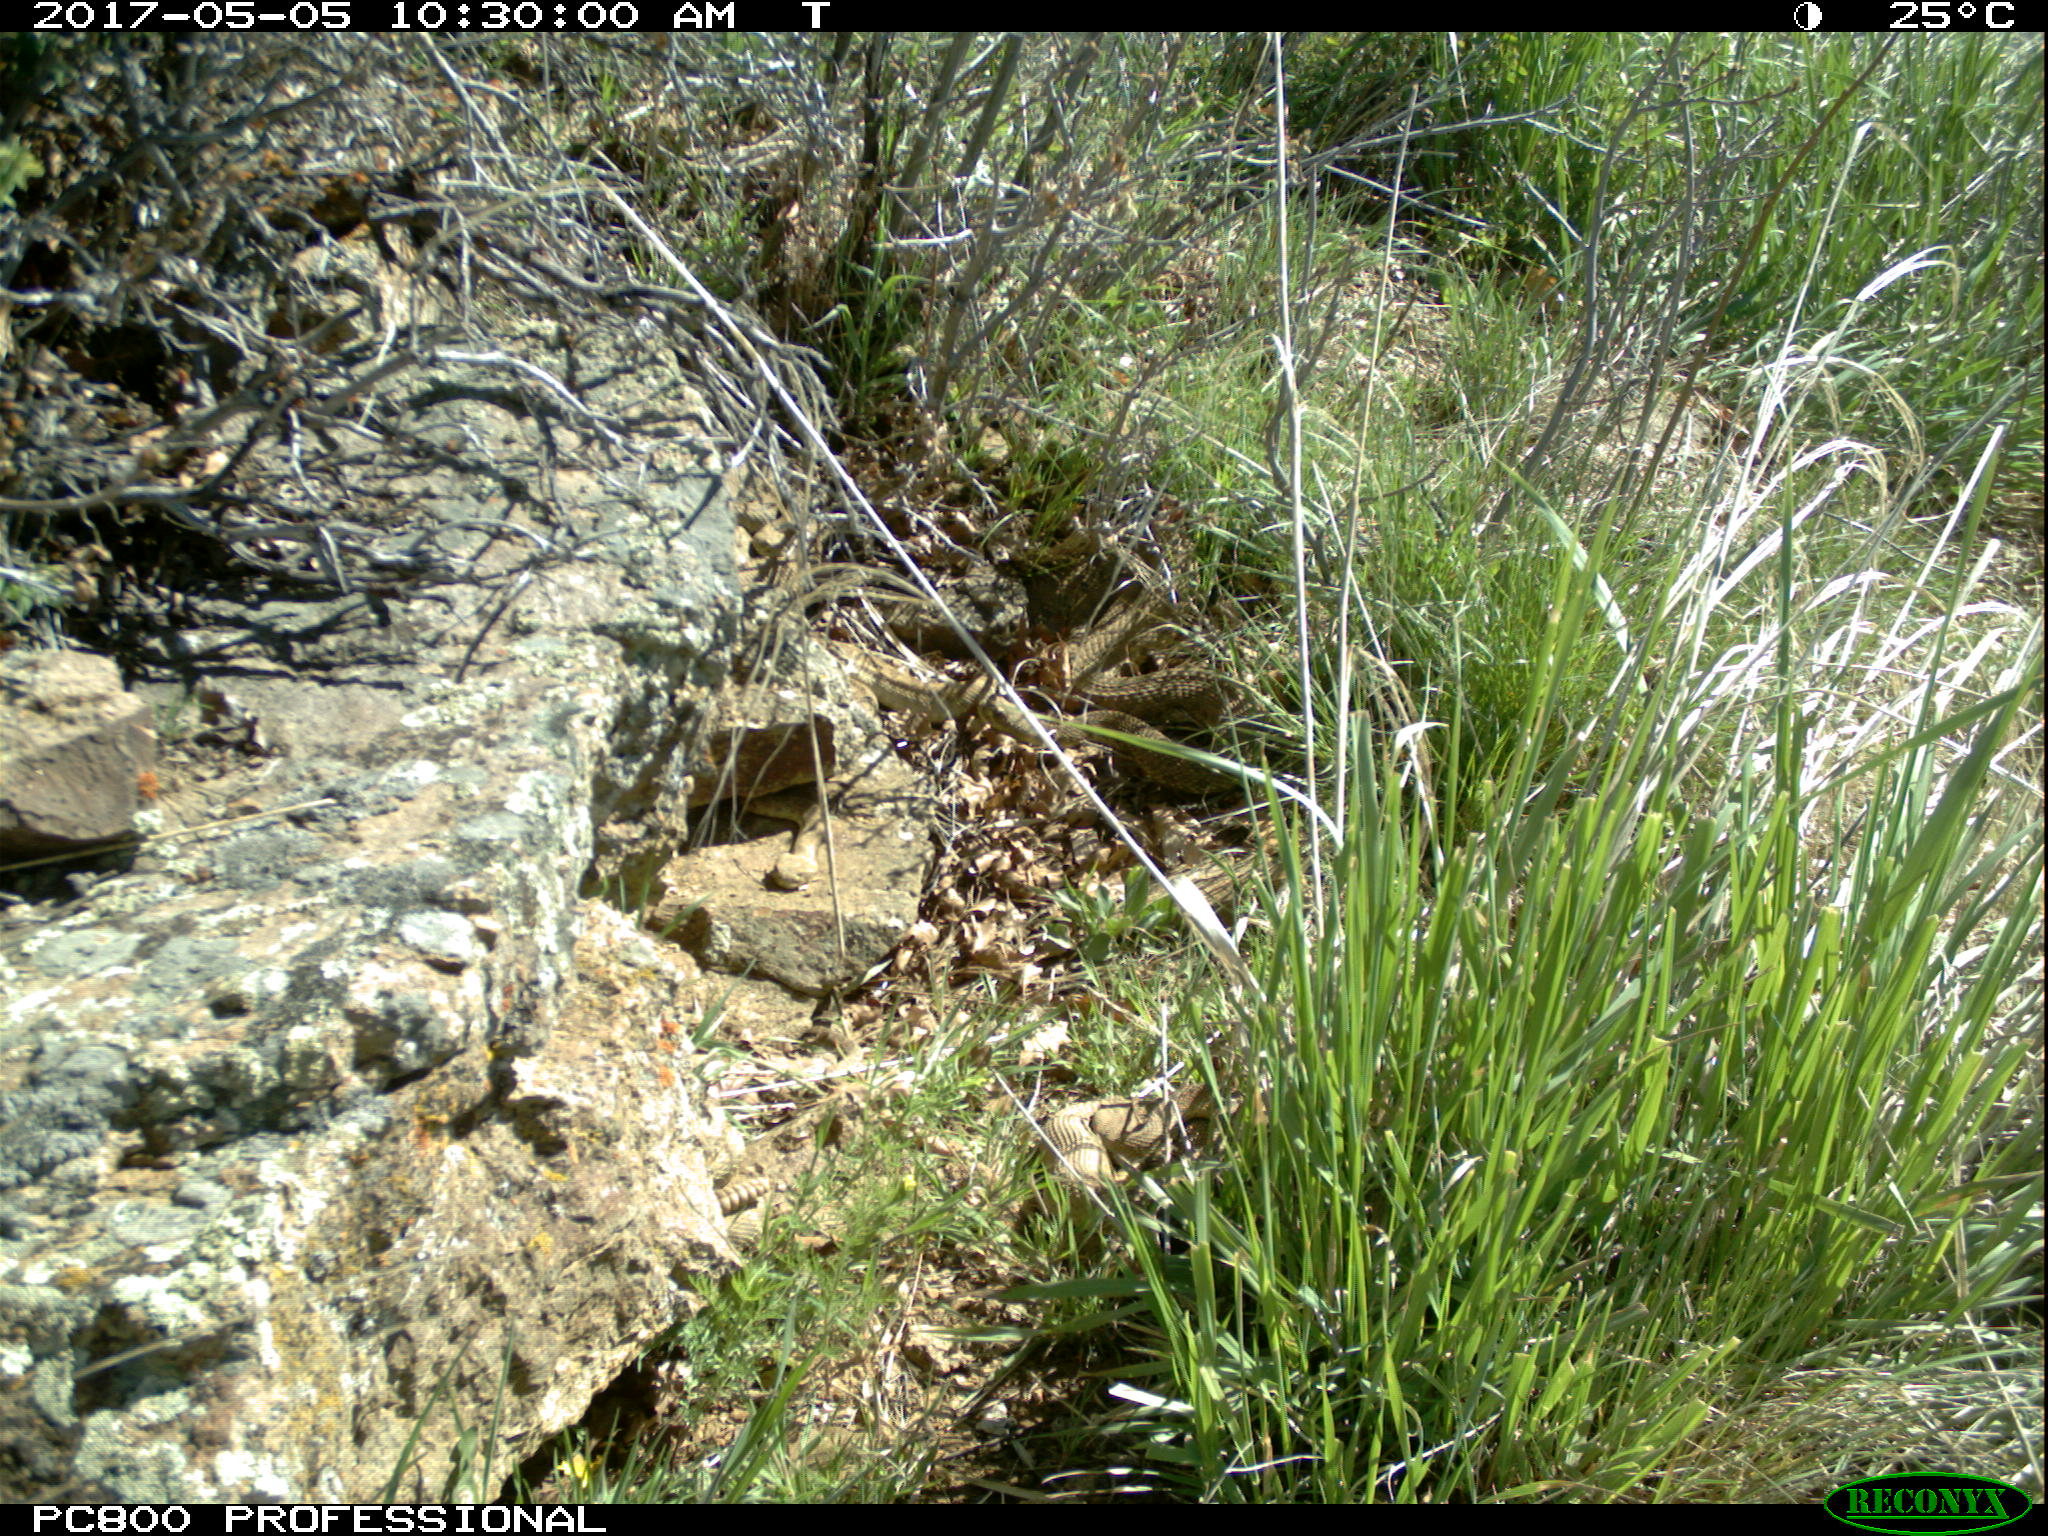snake: (943, 592, 1313, 757), (1018, 1092, 1222, 1205), (708, 1175, 810, 1258)
